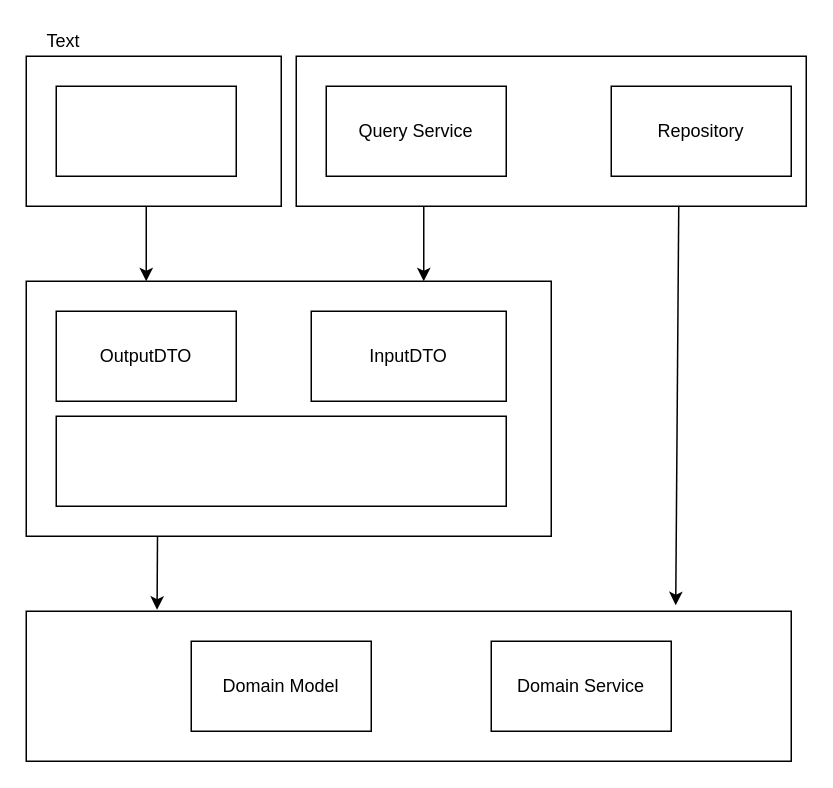
The diagram is 833 pixels wide and 788 high, and some of its shapes have lost their labels. The shapes that lost their labels are listed below. From the top down, each one's centre as x and y in pixels, then its label:
At (x=145, y=130): "Handler".
At (x=280, y=460): "Usecase".
